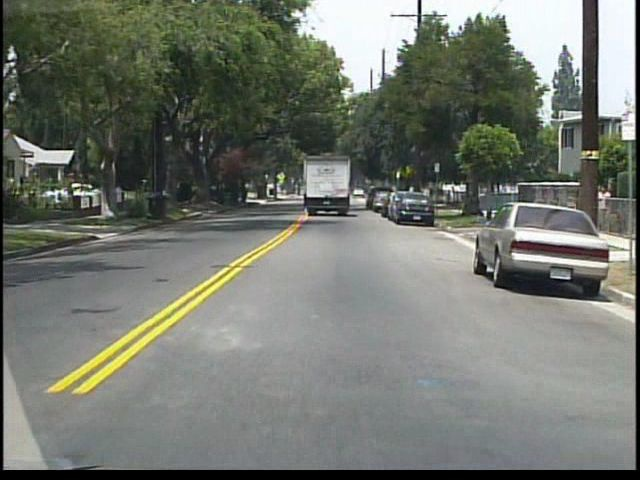person: (593, 183, 613, 233)
